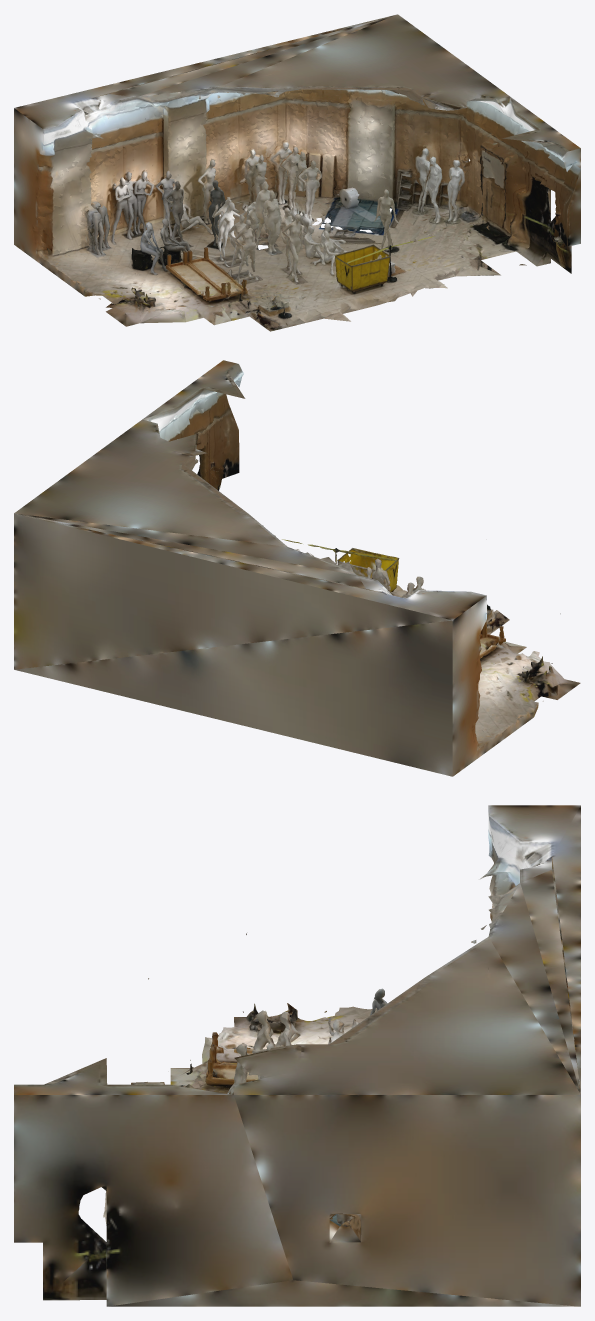
The model's file is mannequins.glb.
3 views of the same model, one above another, from view 1: azimuth 30°, elevation 25°; view 2: azimuth 150°, elevation 25°; view 3: azimuth 270°, elevation 25° (orthographic). The views are drawn at different scales.
Visible parts, largest first — view 1: Object_2, Object_3; view 2: Object_2, Object_3; view 3: Object_2, Object_3.
Part boxes in pixels (x1,y1,x2,y2): Object_2: [14, 14, 580, 331]; Object_3: [132, 15, 469, 327]; Object_2: [14, 360, 580, 776]; Object_3: [16, 513, 522, 677]; Object_2: [14, 805, 580, 1306]; Object_3: [131, 883, 580, 1224].
Bounding box in the file's own units: 12.66 × 4.31 × 10.46.
Materials: 1 (1 with a texture image).
